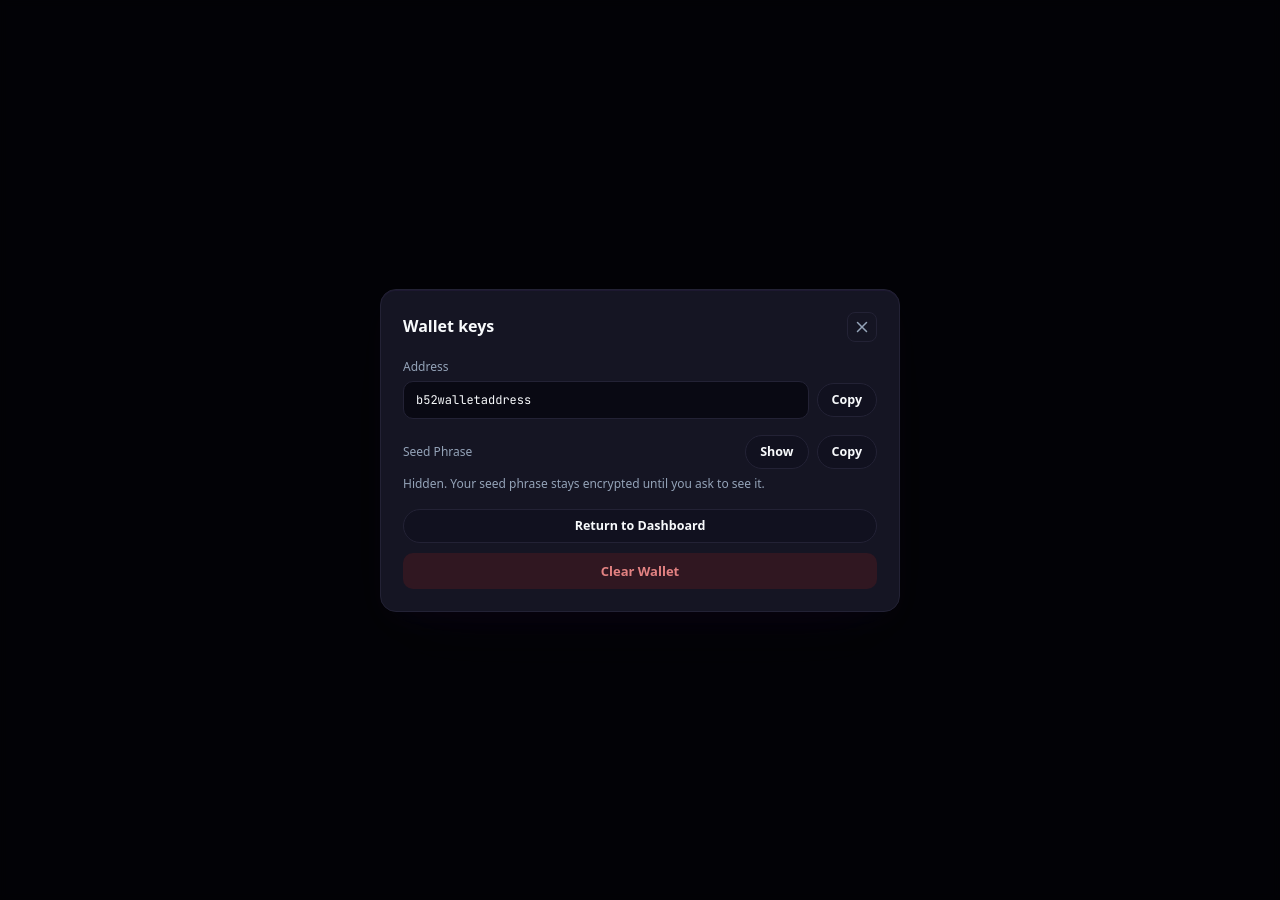
Test: WalletKeysModal › hides the seed words again on Hide
This screenshot has width=1280, height=900.
Click the button "Show".
click(777, 452)  # box [745, 434, 808, 468]
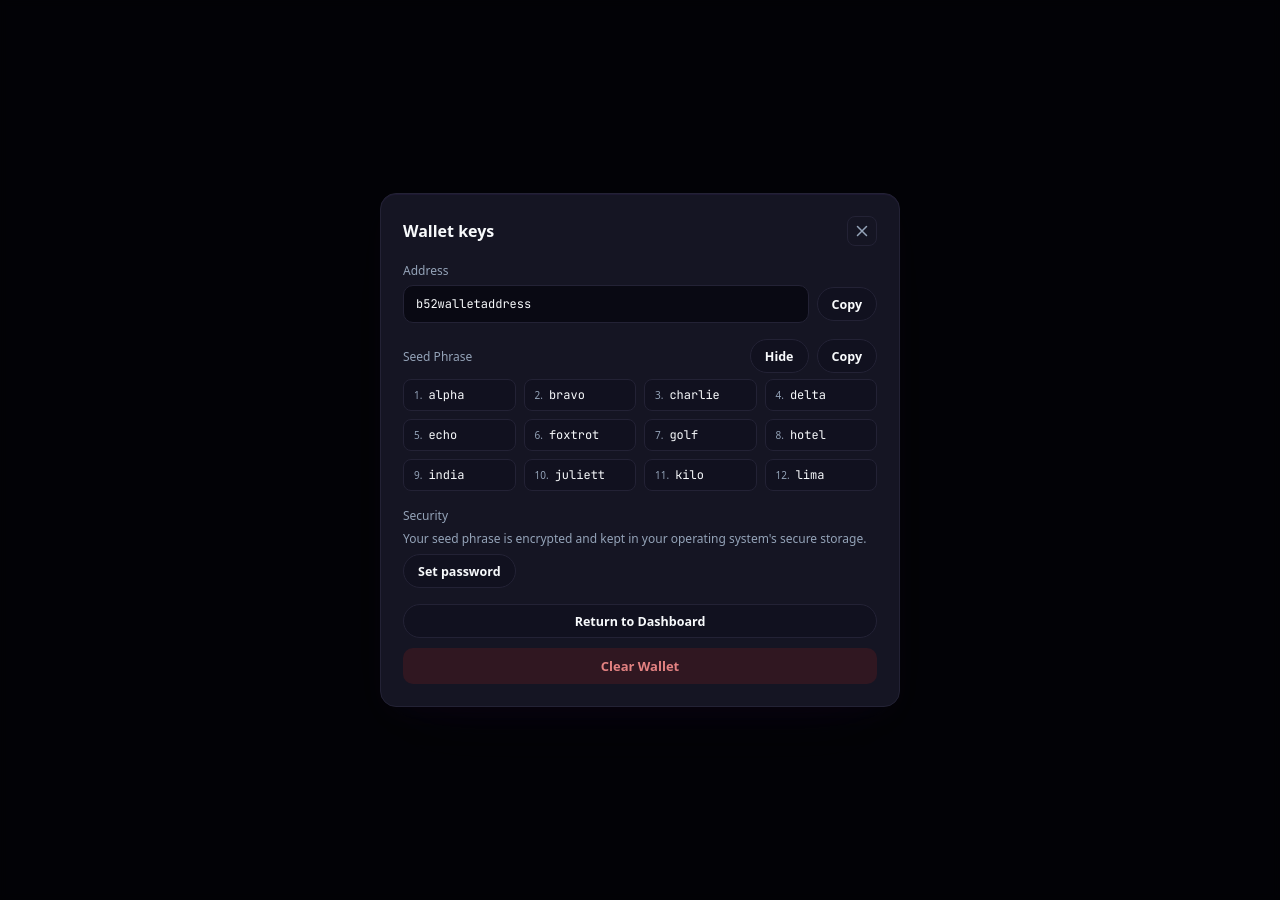
expect the text "alpha" is shown: met, box [428, 387, 464, 403]
Click the button "Hide".
click(779, 356)  # box [750, 339, 808, 373]
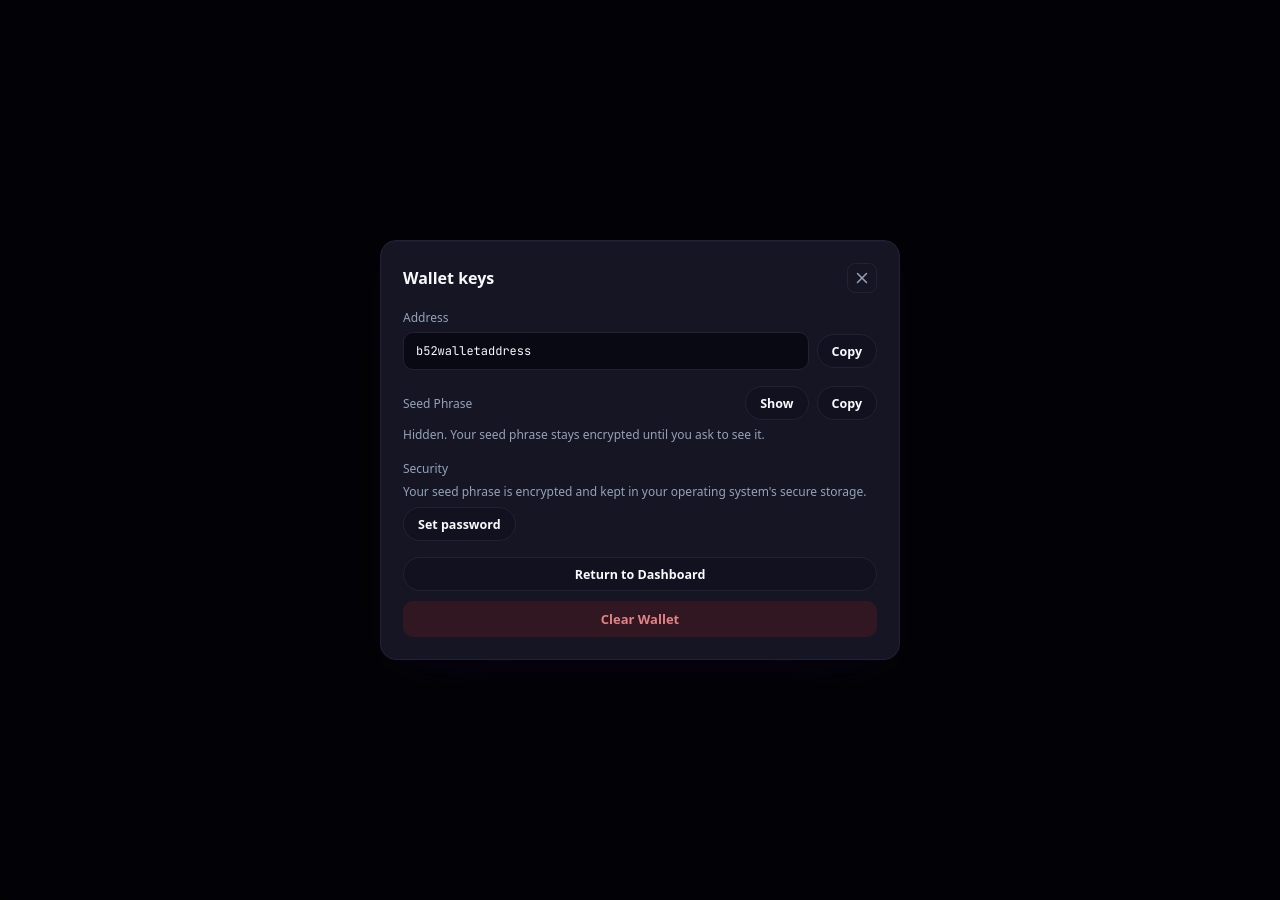
expect the text "alpha" is gone: met
